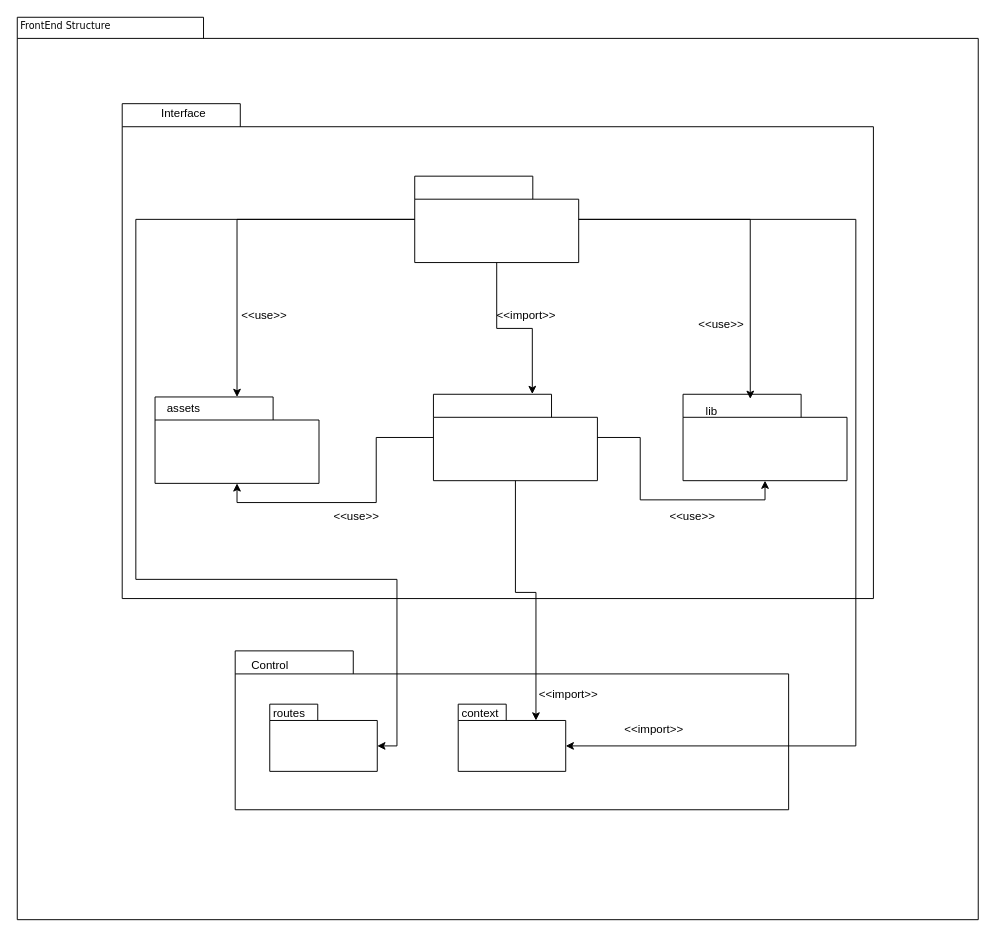
Some shapes in this 995 by 936 pixel diagram are drawn without their labels. Here are the shapes that lost their labels. From the top down, the box of each, then its label:
(414, 175, 579, 263): pages
(432, 393, 597, 481): components
